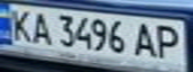3: (51, 11, 75, 48)
4: (72, 15, 93, 51)
6: (106, 17, 130, 55)
9: (90, 16, 109, 52)
A: (130, 20, 160, 58), (27, 9, 54, 45)
K: (3, 6, 36, 43)
P: (151, 21, 187, 61)
